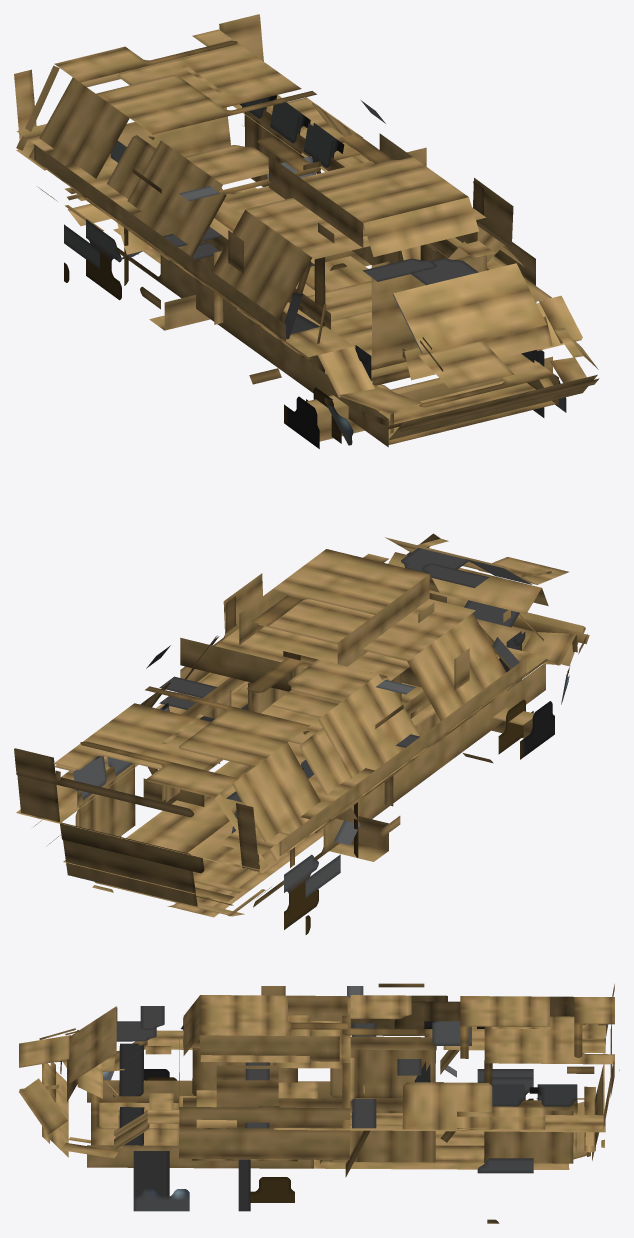
The model's file is btr4e.obj.
3 renders of one model, top to bottom at view 1: azimuth 30°, elevation 25°; view 2: azimuth 150°, elevation 25°; view 3: azimuth 270°, elevation 25°, orthographic. The views are drawn at different scales.
Parts seen in each view (by area): view 1: body, w4, w1; view 2: body, w4, w1; view 3: body, w5, w6, w8, w4.
Boxes of the visible parts, x1=… form: body: x1=14, y1=14, x2=599, y2=447; w4: x1=64, y1=219, x2=121, y2=300; w1: x1=284, y1=387, x2=341, y2=448; body: x1=14, y1=533, x2=589, y2=917; w4: x1=284, y1=854, x2=340, y2=934; w1: x1=498, y1=699, x2=554, y2=759; body: x1=19, y1=983, x2=619, y2=1177; w5: x1=133, y1=1151, x2=189, y2=1211; w6: x1=238, y1=1159, x2=294, y2=1211; w8: x1=477, y1=1158, x2=533, y2=1223; w4: x1=477, y1=1069, x2=533, y2=1100.
Bounding box in the file's own units: 4.23 × 2.96 × 9.36.
